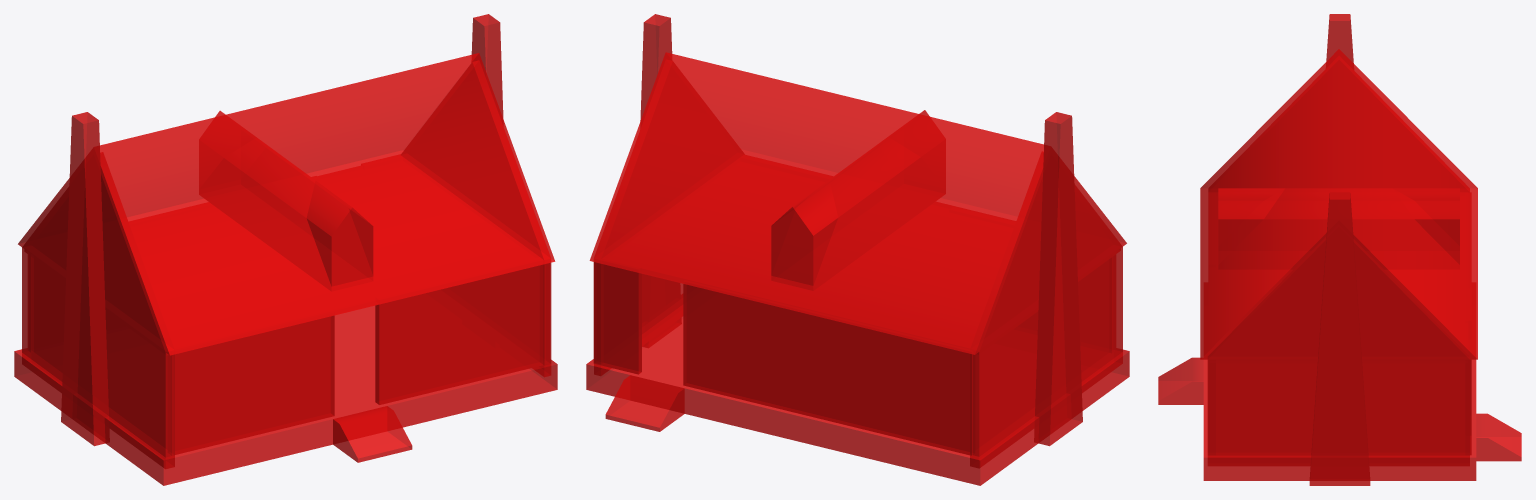
The model's file is SM_Bld_TownHouse_05_Collision.fbx.
3 renders of one model, left to right at view 1: azimuth 30°, elevation 25°; view 2: azimuth 150°, elevation 25°; view 3: azimuth 270°, elevation 25°, orthographic. The views are drawn at different scales.
Visible parts, largest first — view 1: SM_Bld_TownHouse_05_Collision; view 2: SM_Bld_TownHouse_05_Collision; view 3: SM_Bld_TownHouse_05_Collision.
Part boxes in pixels (<box>): SM_Bld_TownHouse_05_Collision: <box>14,14,557,485</box>; SM_Bld_TownHouse_05_Collision: <box>586,14,1129,485</box>; SM_Bld_TownHouse_05_Collision: <box>1158,14,1521,485</box>.
Bounding box in the file's own units: 1263 × 909 × 1045.
